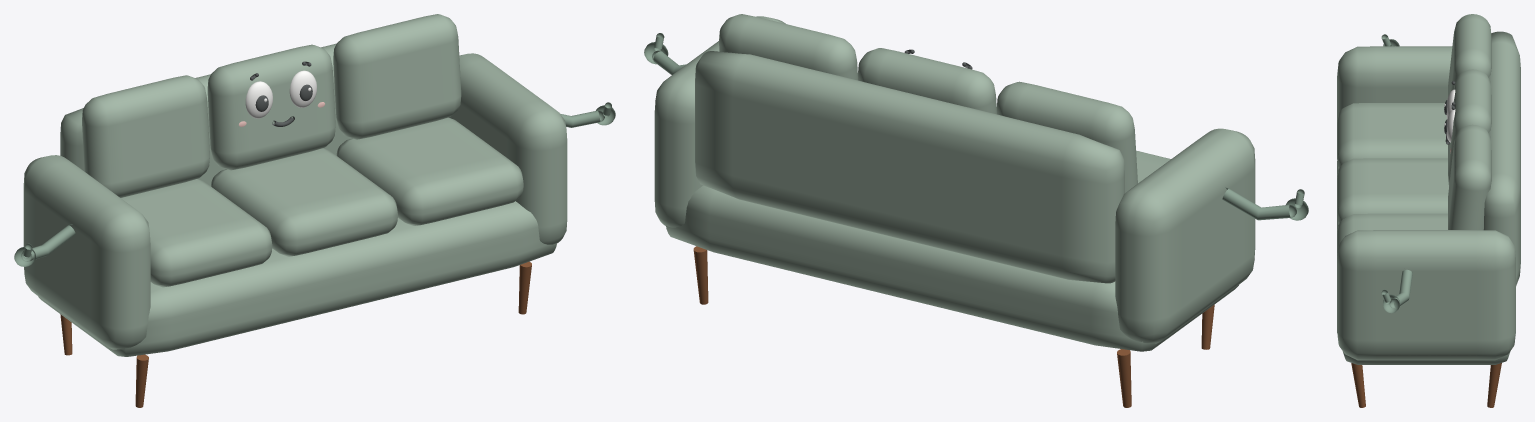
File: sofa.glb
3 views of the same model, side by side, from view 1: azimuth 30°, elevation 25°; view 2: azimuth 150°, elevation 25°; view 3: azimuth 270°, elevation 25° (orthographic). The views are drawn at different scales.
Parts seen in each view (by area): view 1: fabric, frame, armL, armR, eyeballL, eyeballR; view 2: fabric, frame, armL, armR; view 3: fabric, frame, armR, eyeballR.
Part boxes in pixels (x1=…): fabric: x1=23, y1=14, x2=567, y2=356; frame: x1=60, y1=261, x2=531, y2=407; armL: x1=14, y1=224, x2=75, y2=266; armR: x1=560, y1=102, x2=615, y2=127; eyeballL: x1=245, y1=81, x2=272, y2=118; eyeballR: x1=289, y1=70, x2=316, y2=107; fabric: x1=654, y1=14, x2=1255, y2=351; frame: x1=693, y1=246, x2=1214, y2=407; armL: x1=1222, y1=187, x2=1308, y2=220; armR: x1=644, y1=33, x2=686, y2=74; fabric: x1=1337, y1=14, x2=1520, y2=364; frame: x1=1351, y1=363, x2=1501, y2=407; armR: x1=1381, y1=269, x2=1412, y2=313; eyeballR: x1=1446, y1=109, x2=1455, y2=142.
Bounding box in the file's own units: 3.91 × 1.61 × 1.15.
